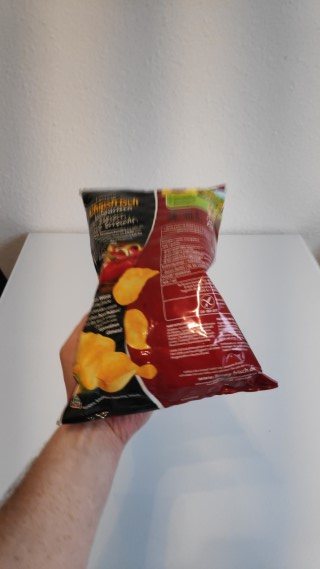chipsfrisch: (53, 180, 282, 426)
